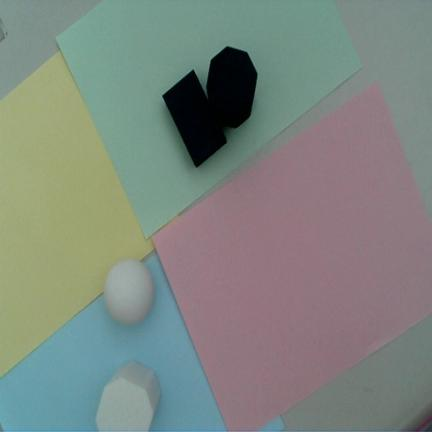Esfera: (104, 259, 154, 324)
Paralelepipedo: (162, 69, 227, 169)
Prisma_hexagonal: (96, 361, 162, 430), (206, 46, 258, 129)
